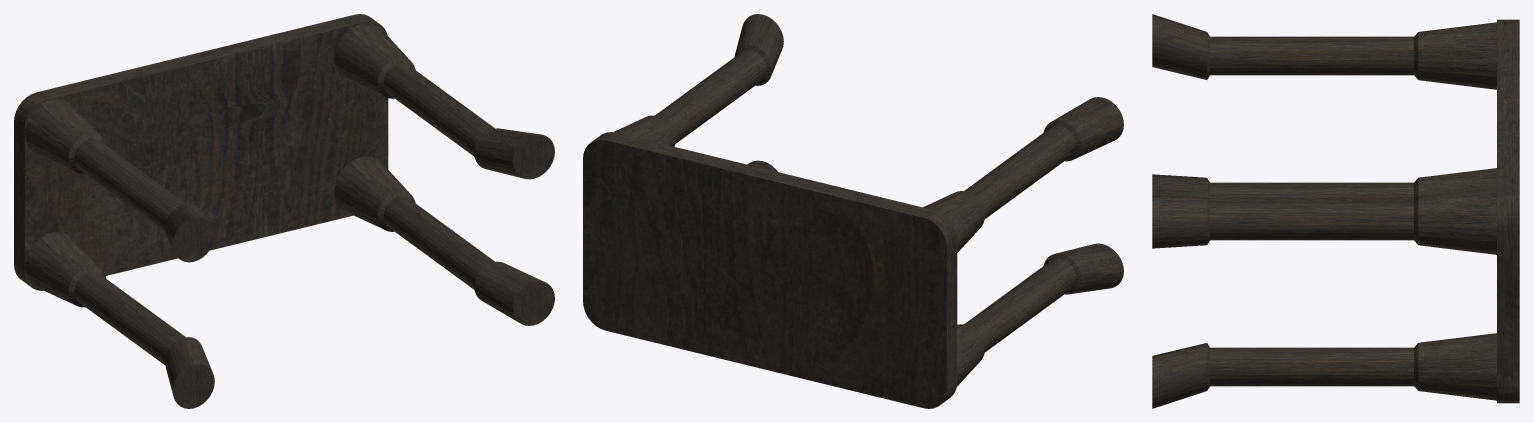
File: Table.fbx
3 renders of one model, left to right at view 1: azimuth 30°, elevation 25°; view 2: azimuth 150°, elevation 25°; view 3: azimuth 270°, elevation 25°, orthographic. The views are drawn at different scales.
Visible parts, largest first — view 1: Table; view 2: Table; view 3: Table.
Boxes of the visible parts, <box> form: Table: <box>14,14,554,408</box>; Table: <box>583,14,1123,408</box>; Table: <box>1152,14,1519,408</box>.
Bounding box in the file's own units: 210 × 100 × 160.
